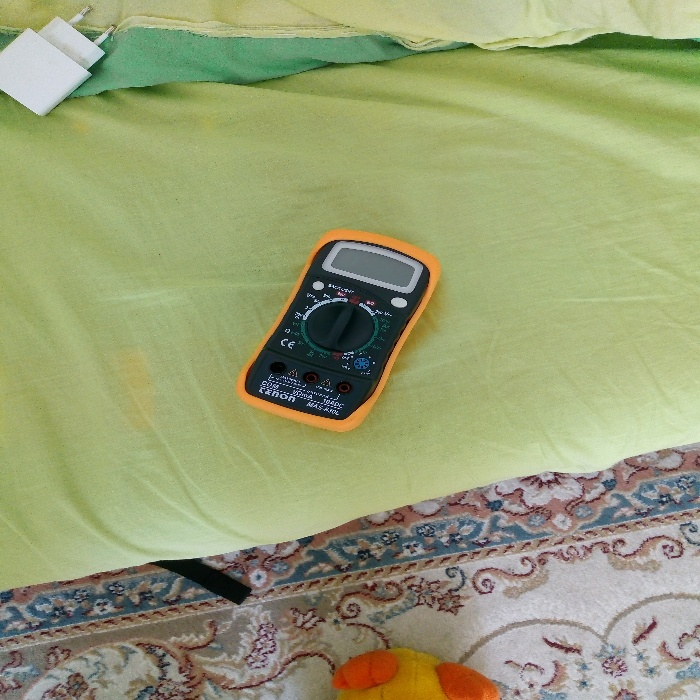multimetre: (224, 199, 458, 443)
